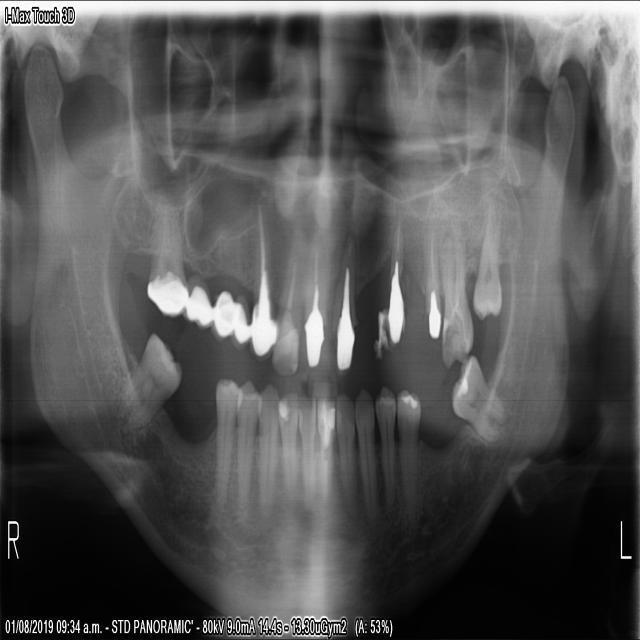LCD: (335, 390, 356, 510)
LID: (297, 390, 317, 499), (316, 393, 335, 499)
LIU: (303, 205, 330, 374), (329, 229, 357, 375)
LMD: (449, 350, 509, 443), (396, 384, 420, 520)
LMU: (441, 234, 476, 378), (471, 207, 504, 323)
LPMD: (356, 385, 379, 517), (376, 387, 396, 503)
LPMU: (383, 225, 406, 349), (423, 233, 442, 349)
RCD: (235, 377, 259, 513)
RID: (256, 378, 278, 522), (277, 387, 300, 505)
RIU: (270, 217, 304, 378), (249, 198, 275, 364)
RMD: (113, 325, 185, 432)
RMU: (144, 195, 188, 319), (184, 210, 213, 330)
RPMD: (212, 374, 239, 510)
RPMU: (213, 207, 235, 343), (232, 204, 250, 354)
